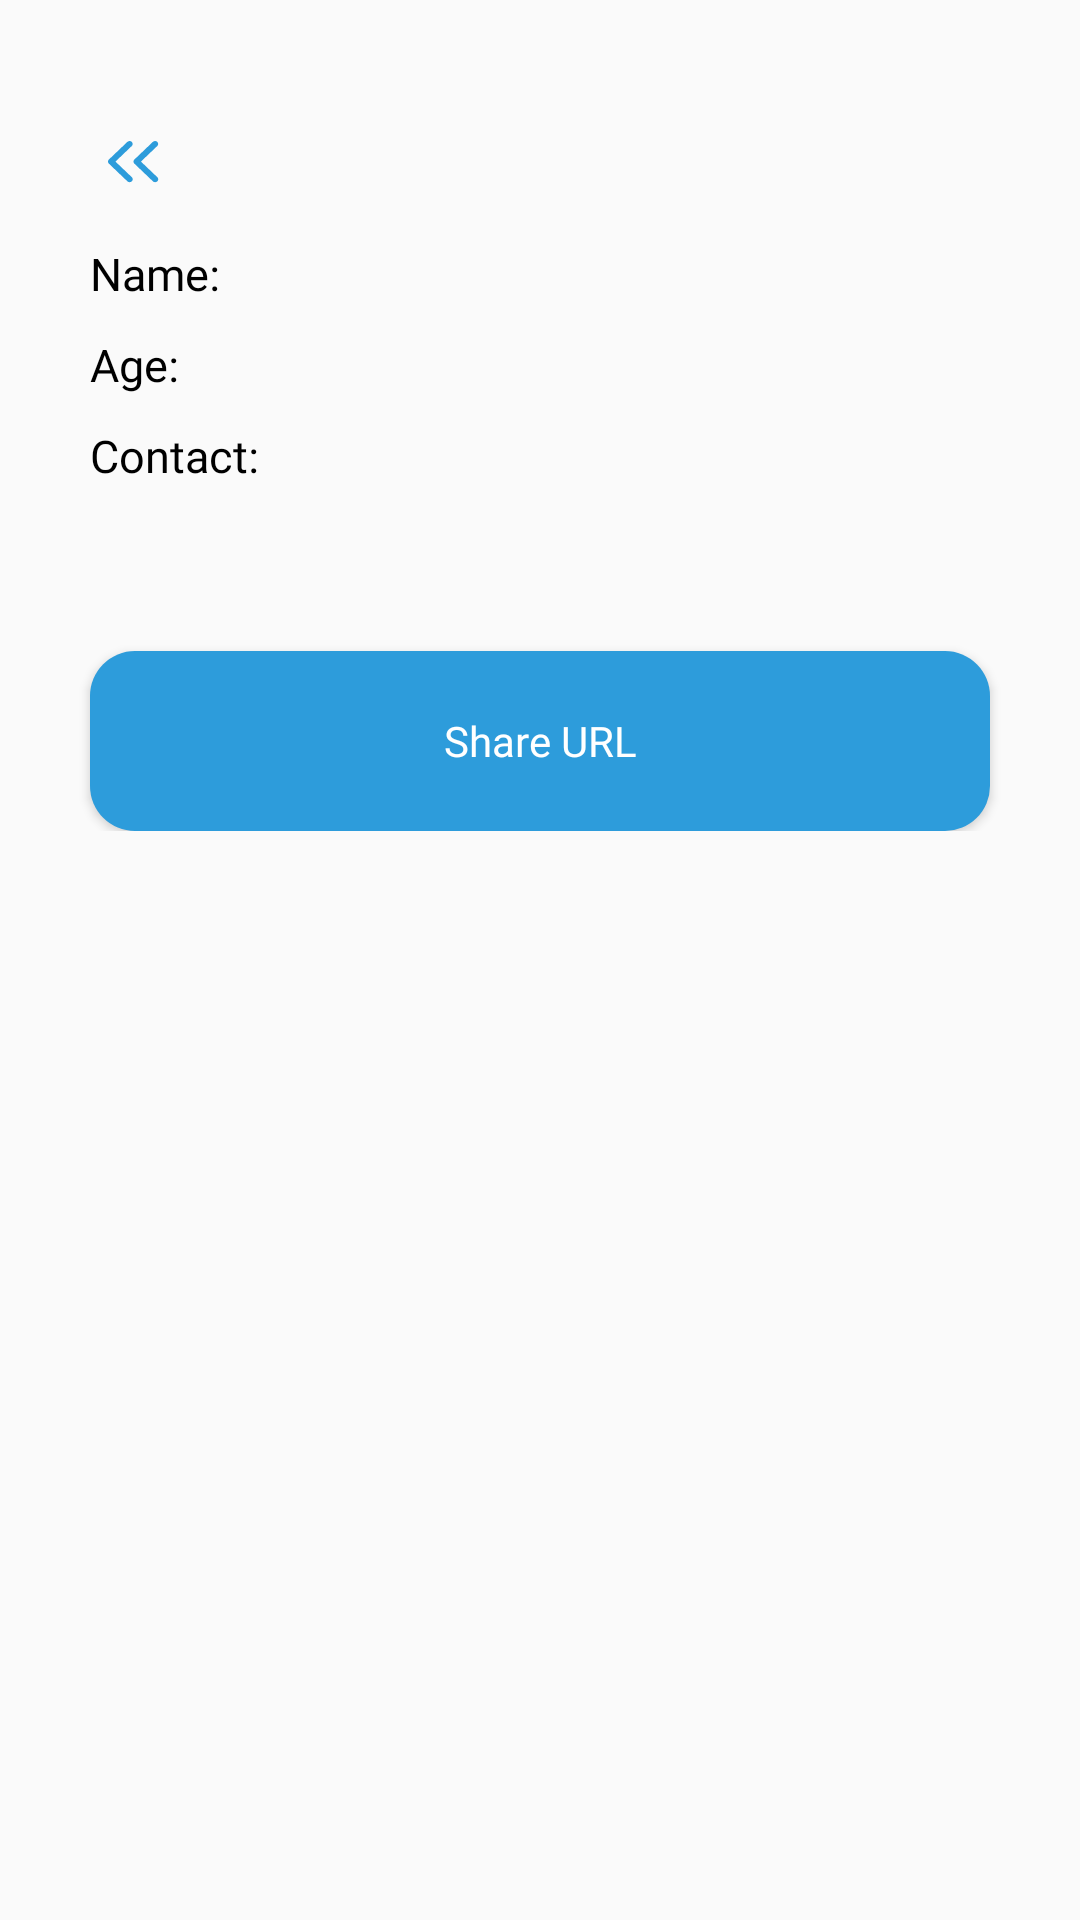

Icon click points for this 1080px×1920px phone screenshot, format point (x, y):
back: point (133, 162)
